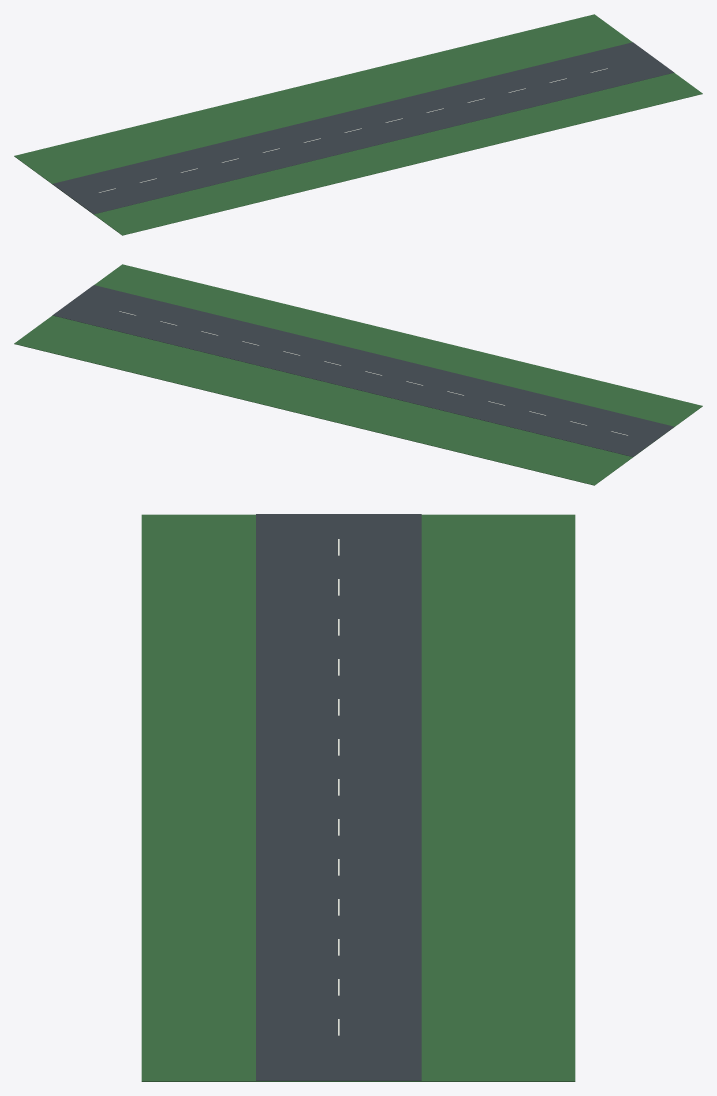
File: background.glb
The picture shows the model from 3 angles, top to bottom: view 1: azimuth 30°, elevation 25°; view 2: azimuth 150°, elevation 25°; view 3: azimuth 270°, elevation 25°; orthographic projection. The views are drawn at different scales.
Parts seen in each view (by area): view 1: Distant_Grass, Distant_Runway; view 2: Distant_Grass, Distant_Runway; view 3: Distant_Grass, Distant_Runway.
Part boxes in pixels (box(x1,y1,x2,y2)): Distant_Grass: box(14, 14, 702, 235); Distant_Runway: box(53, 42, 673, 214); Distant_Grass: box(14, 264, 702, 485); Distant_Runway: box(52, 285, 673, 456); Distant_Grass: box(141, 514, 575, 1081); Distant_Runway: box(256, 514, 421, 1080).
Bounding box in the file's own units: 340 × 0.38 × 110.
